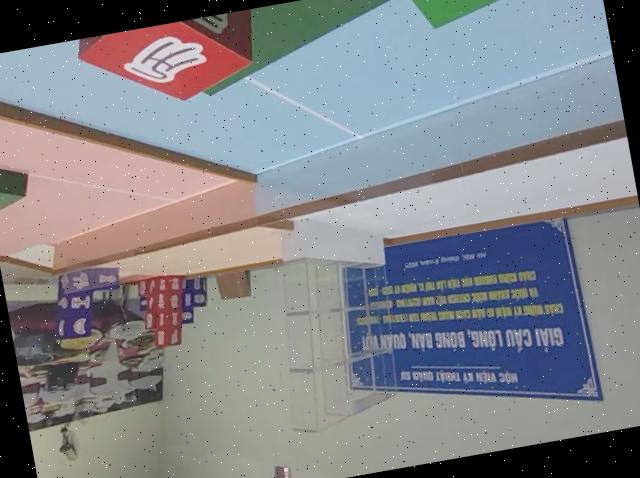R2 Fake: (76, 8, 271, 118)
